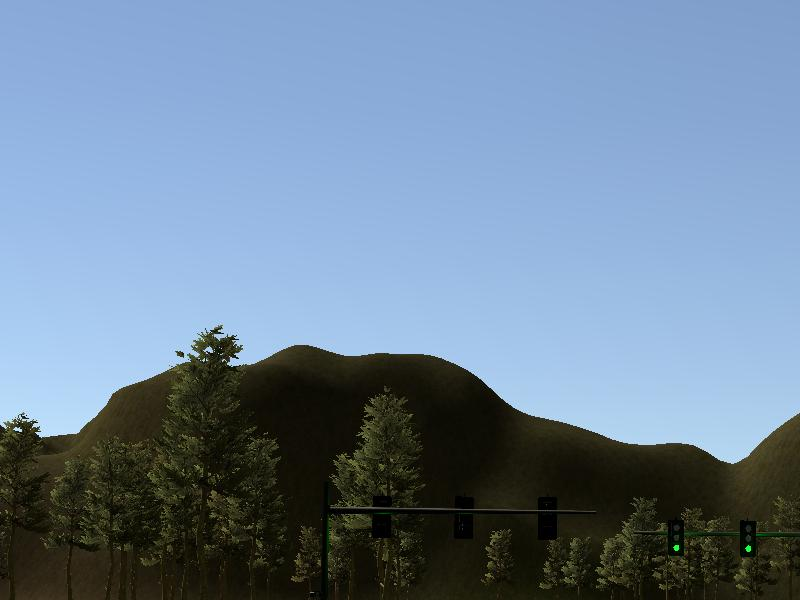Green: (738, 522, 757, 555), (667, 521, 684, 553)
